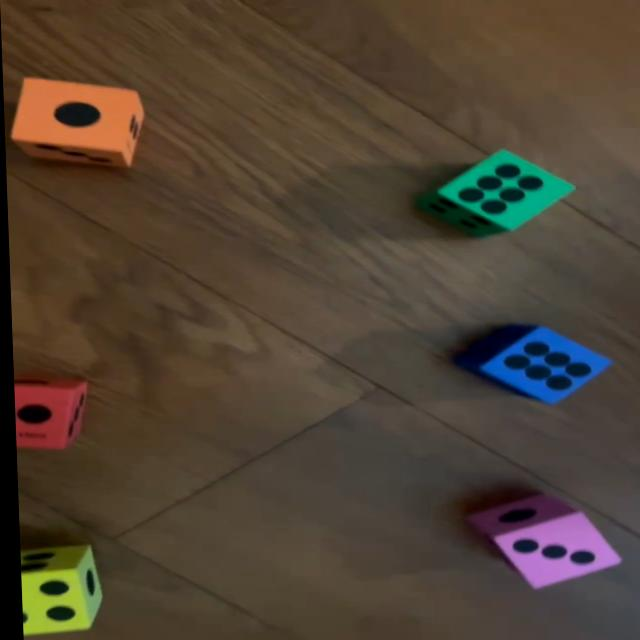cube: (422, 149, 577, 237), (450, 323, 613, 406), (13, 372, 87, 448)
